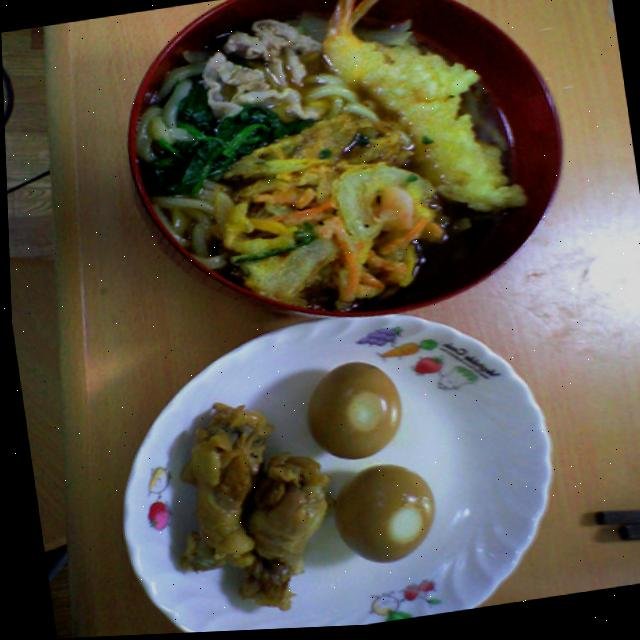面条主食: (122, 0, 555, 331)
